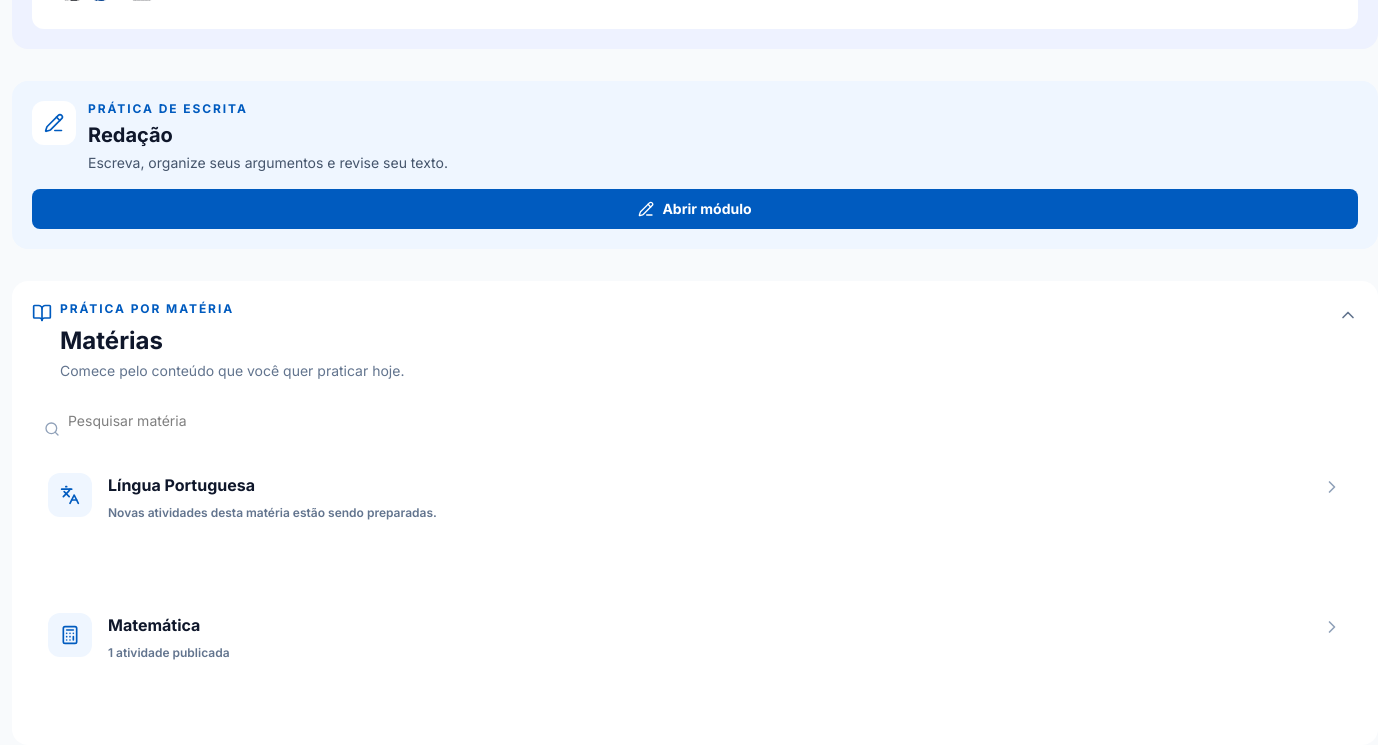
Test case: StudyCenterPage › shows only published units and progress tied to their published skills
(page scrolled)
Click the link "Matemática 1 atividade publicada".
click(695, 661)  # box [32,597,1358,725]
(page scrolled)
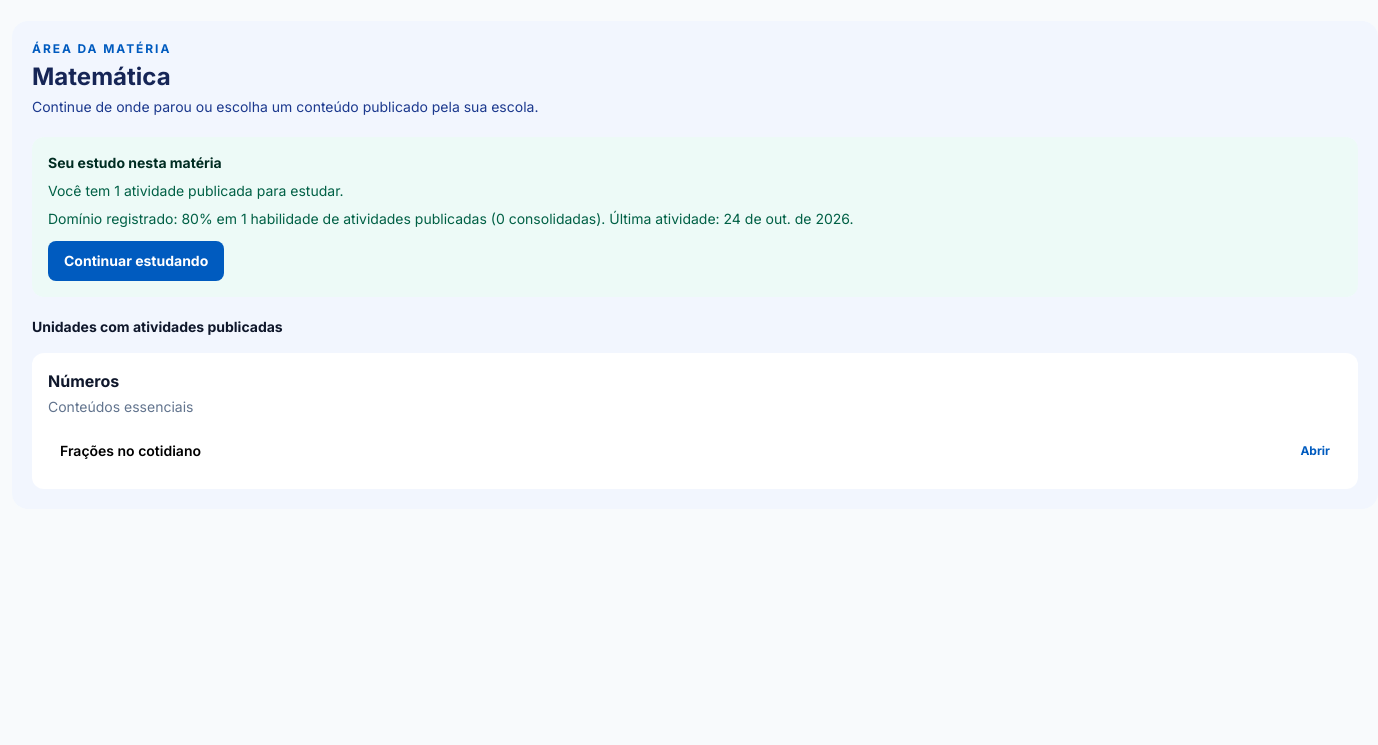
Expected: the heading "Unidades com atividades publicadas" is shown, [32,318,283,335]
Expected: the heading "Números" is shown, [48,371,119,391]
Expected: the text "Domínio registrado: 80% em 1 habilidade de atividades publicadas (0 consolidadas). Última atividade:" is shown, [48,210,854,227]
